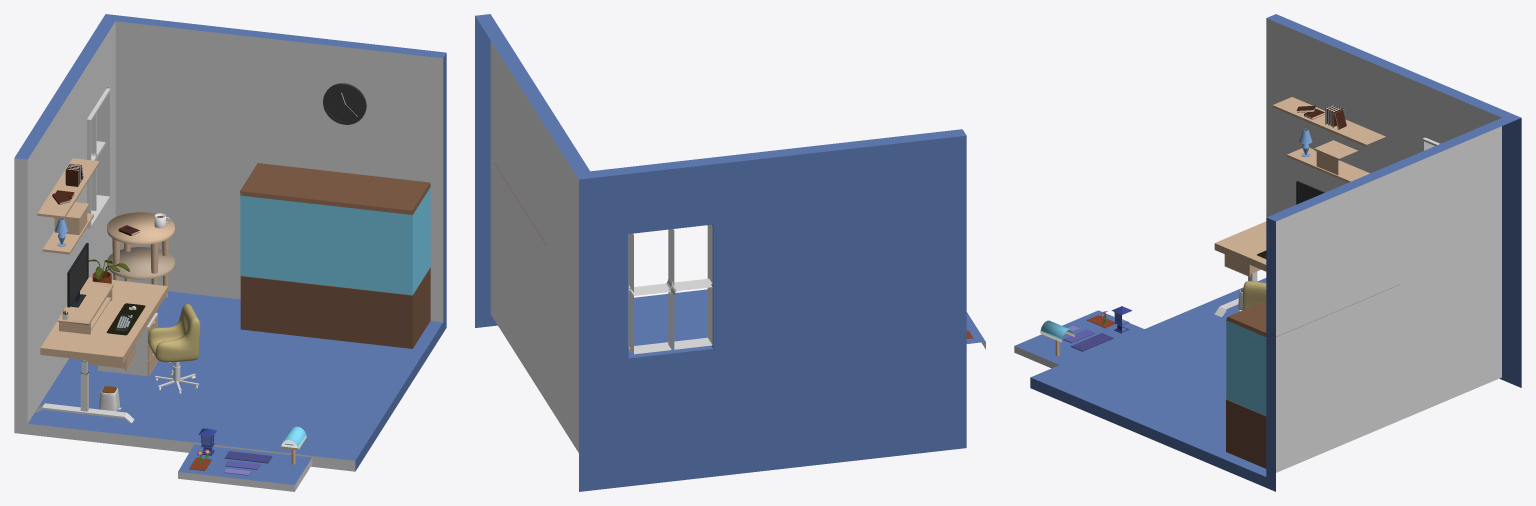
Rendered from New-Room.glb.
The picture shows the model from 3 angles, left to right: view 1: azimuth 30°, elevation 25°; view 2: azimuth 150°, elevation 25°; view 3: azimuth 270°, elevation 25°; orthographic projection. The views are drawn at different scales.
Visible parts, largest first — view 1: 3D Walls, Base/Top, Water, Table Top, Mini floor, Plane.001, Cube.015, Table Monitor, Top base, Watch, Sub base, Table Large (+8 smaller); view 2: 3D Walls, Plane.001; view 3: 3D Walls, Water, Base/Top, Mini floor, Table Top, Table Large, Table Short, Carton Box, Cube.015.
Boxes of the visible parts, x1,y1,x2,y2 form: 3D Walls: (14, 14, 446, 471); Base/Top: (240, 163, 430, 348); Water: (240, 187, 430, 295); Table Top: (40, 277, 167, 364); Mini floor: (178, 444, 312, 491); Plane.001: (87, 88, 110, 228); Cube.015: (148, 303, 200, 362); Table Monitor: (57, 281, 113, 334); Top base: (107, 212, 174, 244); Watch: (323, 83, 366, 124); Sub base: (107, 247, 174, 279); Table Large: (37, 158, 99, 218); 3D Walls: (475, 14, 966, 491); Plane.001: (628, 224, 712, 354); 3D Walls: (1030, 14, 1521, 491); Water: (1226, 320, 1266, 415); Base/Top: (1226, 284, 1399, 468); Mini floor: (1014, 310, 1144, 368); Table Top: (1214, 221, 1266, 271); Table Large: (1272, 97, 1385, 146); Table Short: (1287, 148, 1369, 182); Carton Box: (1314, 140, 1357, 174); Cube.015: (1243, 281, 1266, 309).
Size of the model in its own units: 14.38 by 8.73 by 14.85.
